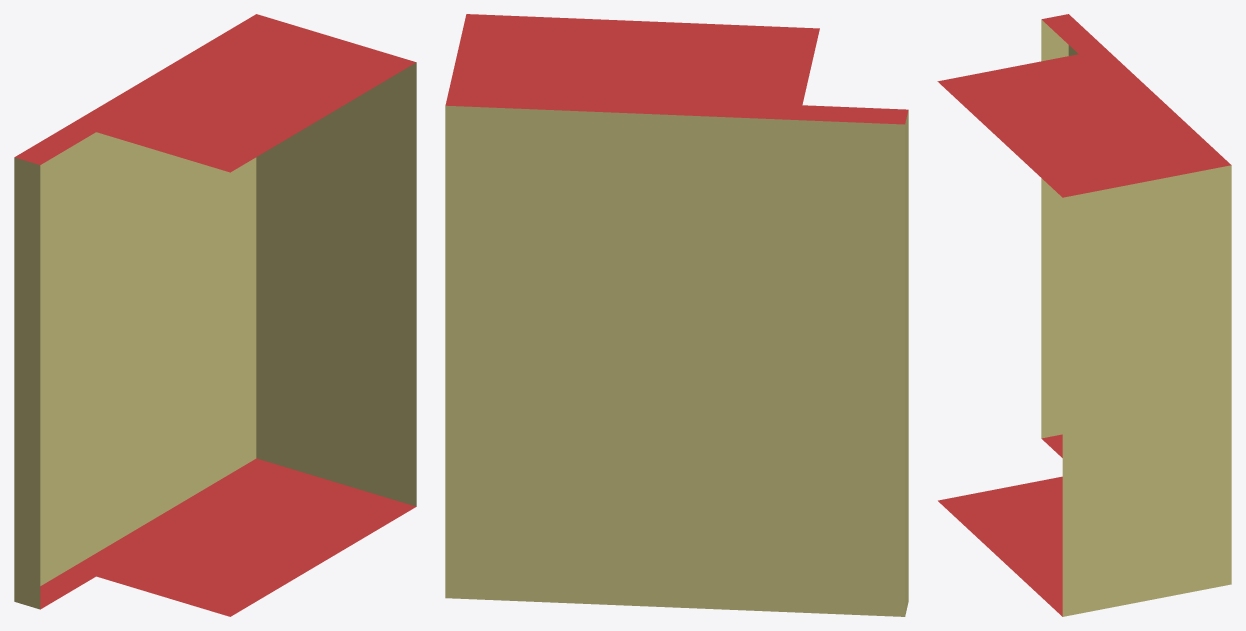
3 renders of one model, left to right at view 1: azimuth 30°, elevation 25°; view 2: azimuth 150°, elevation 25°; view 3: azimuth 270°, elevation 25°, orthographic. The views are drawn at different scales.
Bounding box in the file's own units: 10.79 × 7.3 × 11.48.
